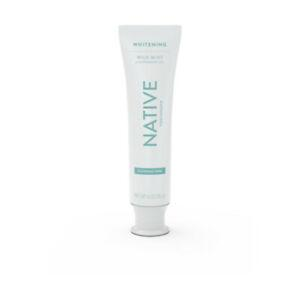toothpaste: (111, 19, 187, 239)
